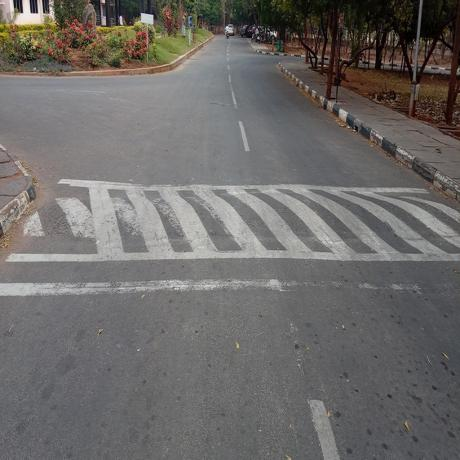Speed Bump: (1, 177, 459, 293)
